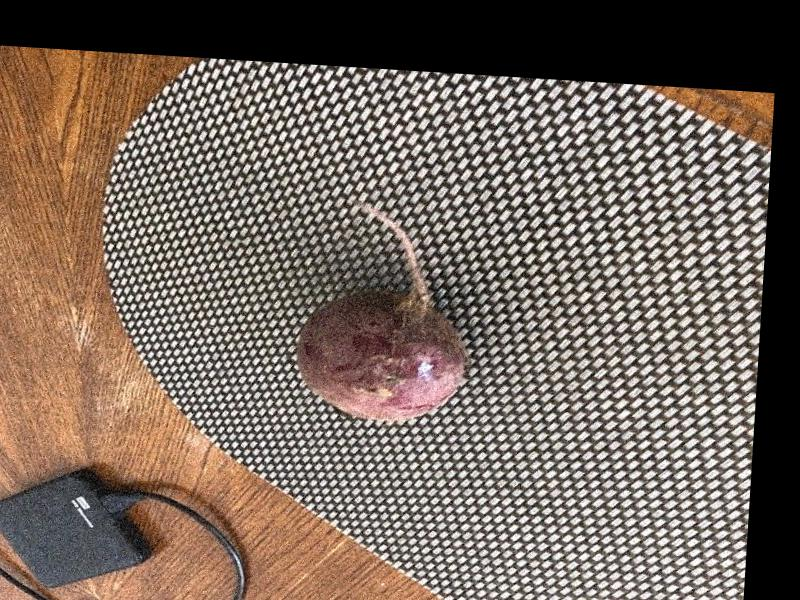Beet: (294, 197, 475, 424)
